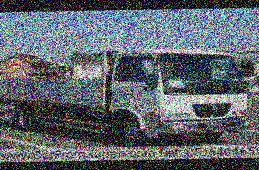truck: (0, 42, 250, 148)
